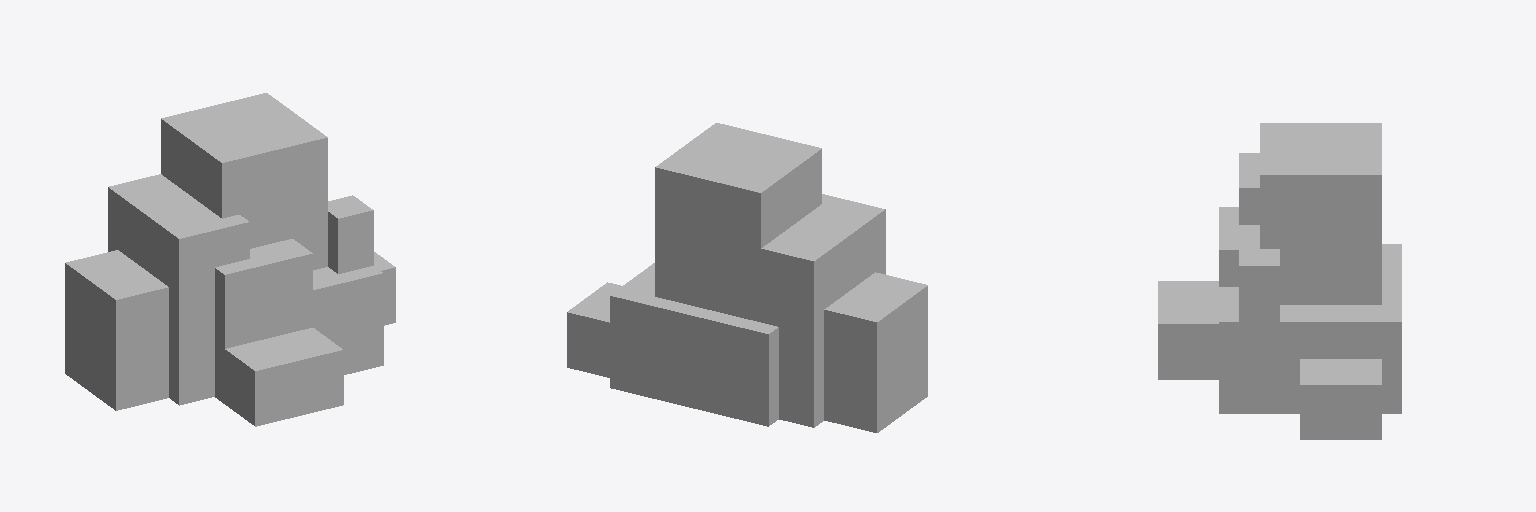
Rendered from Rock.obj.
The picture shows the model from 3 angles: view 1: azimuth 30°, elevation 25°; view 2: azimuth 150°, elevation 25°; view 3: azimuth 270°, elevation 25°; orthographic projection.
Parts seen in each view (by area): view 1: object 1; view 2: object 1; view 3: object 1.
Boxes of the visible parts, x1,y1,x2,y2 form: object 1: [65, 93, 395, 426]; object 1: [567, 123, 927, 432]; object 1: [1158, 123, 1401, 439].
Size of the model in its own units: 1.7 by 1.2 by 1.2.